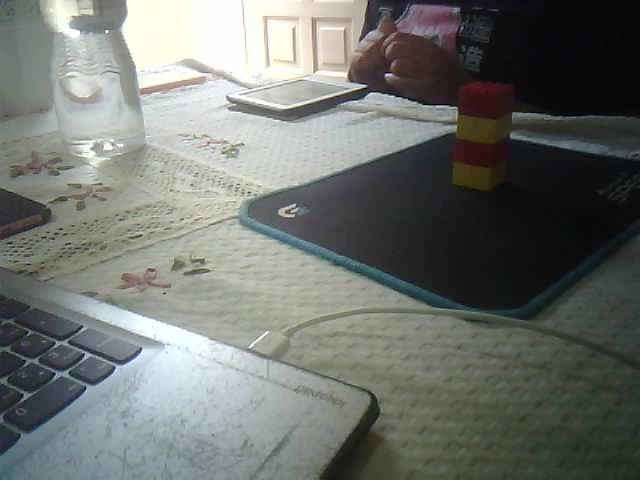lego: (450, 81, 514, 193)
